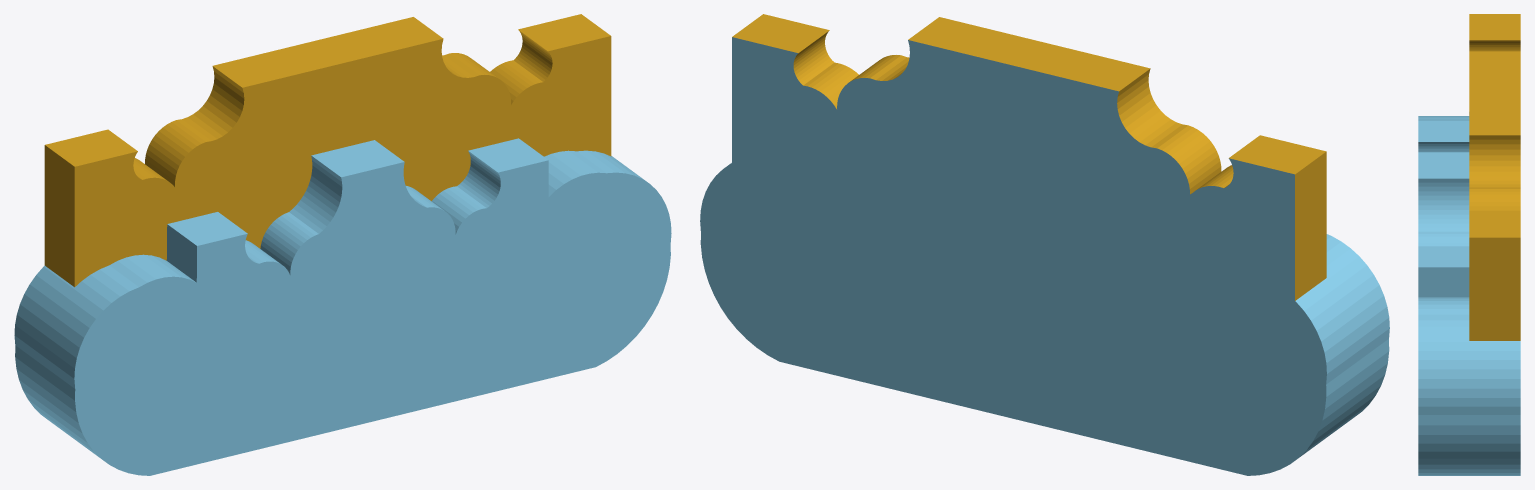
The model's file is Prop_Building_Eastern_Ornamental_Facade_Block_04.FBX.
The picture shows the model from 3 angles, left to right: view 1: azimuth 30°, elevation 25°; view 2: azimuth 150°, elevation 25°; view 3: azimuth 270°, elevation 25°; orthographic projection. The views are drawn at different scales.
Parts seen in each view (by area): view 1: Prop_Building_Eastern_Ornamental_Facade_Block_04; view 2: Prop_Building_Eastern_Ornamental_Facade_Block_04; view 3: Prop_Building_Eastern_Ornamental_Facade_Block_04.
Boxes of the visible parts, x1,y1,x2,y2 form: Prop_Building_Eastern_Ornamental_Facade_Block_04: (14,14,671,475); Prop_Building_Eastern_Ornamental_Facade_Block_04: (700,14,1389,475); Prop_Building_Eastern_Ornamental_Facade_Block_04: (1418,14,1520,475).
Bounding box in the file's own units: 1815 × 977 × 315.
